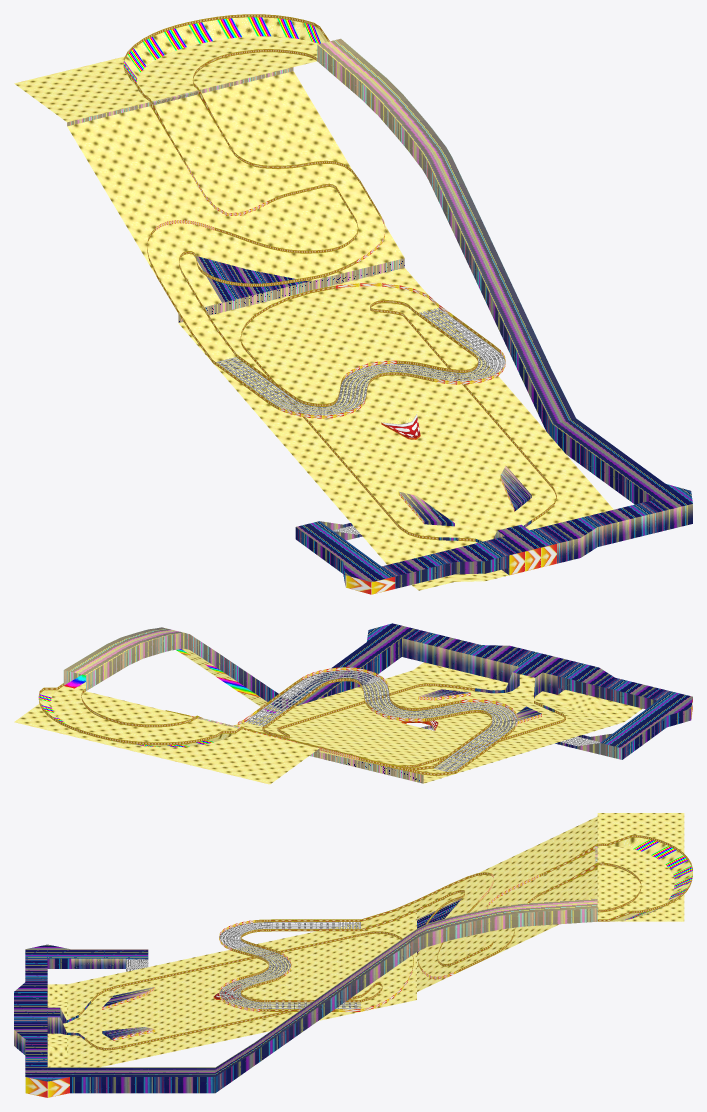
File: luigi_course.glb
3 views of the same model, one above another, from view 1: azimuth 30°, elevation 25°; view 2: azimuth 150°, elevation 25°; view 3: azimuth 270°, elevation 25° (orthographic). The views are drawn at different scales.
Parts seen in each view (by area): view 1: luigi_course; view 2: luigi_course; view 3: luigi_course.
Boxes of the visible parts, x1=… form: luigi_course: x1=14, y1=14, x2=692, y2=594; luigi_course: x1=14, y1=623, x2=692, y2=784; luigi_course: x1=14, y1=813, x2=692, y2=1097.
Size of the model in its own units: 181 by 114 by 379.
9 materials, 9 textured.
